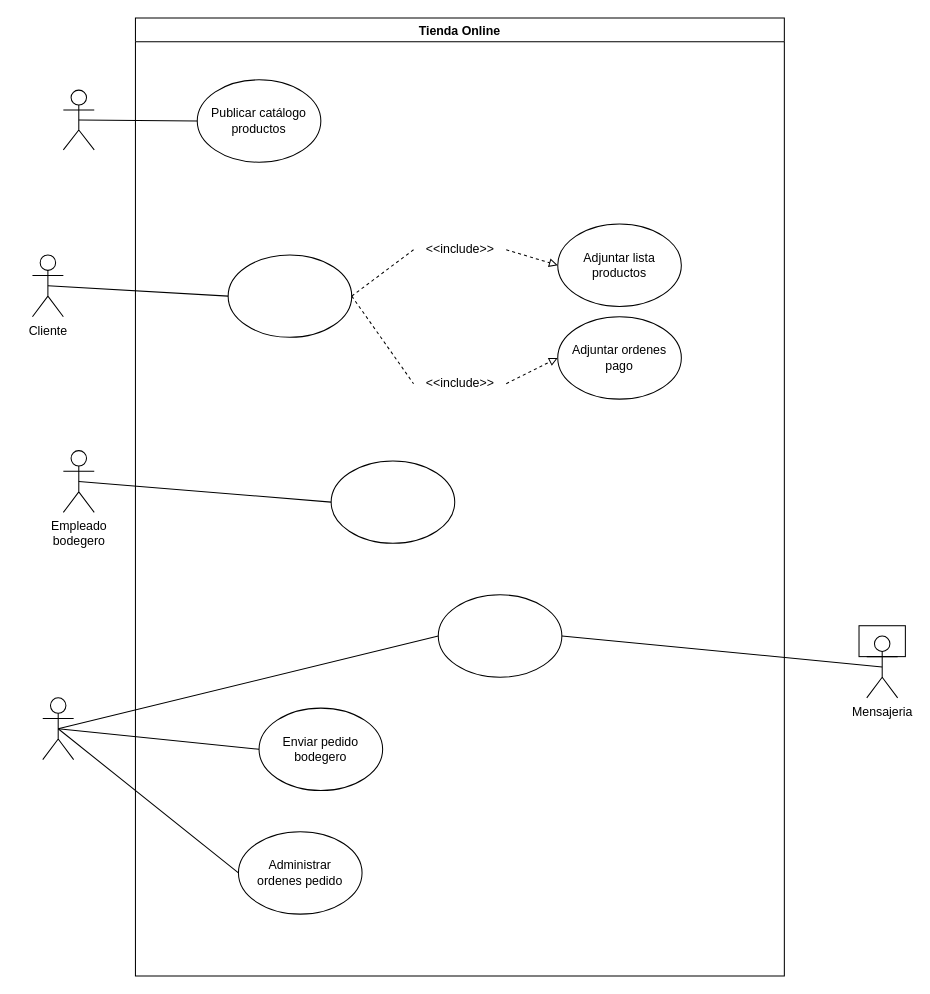
Image size: 930x994. Some labels were removed from this diagram. The centre of each missing label's shape, as x and y in pixels:
"Administrar productos" goes at point (392, 501).
"Empleado gestor pedidos" goes at point (58, 728).
"Empleado marketing" goes at point (78, 119).
"Encargar producto" goes at point (289, 295).
"Enviar producto" goes at point (499, 635).
